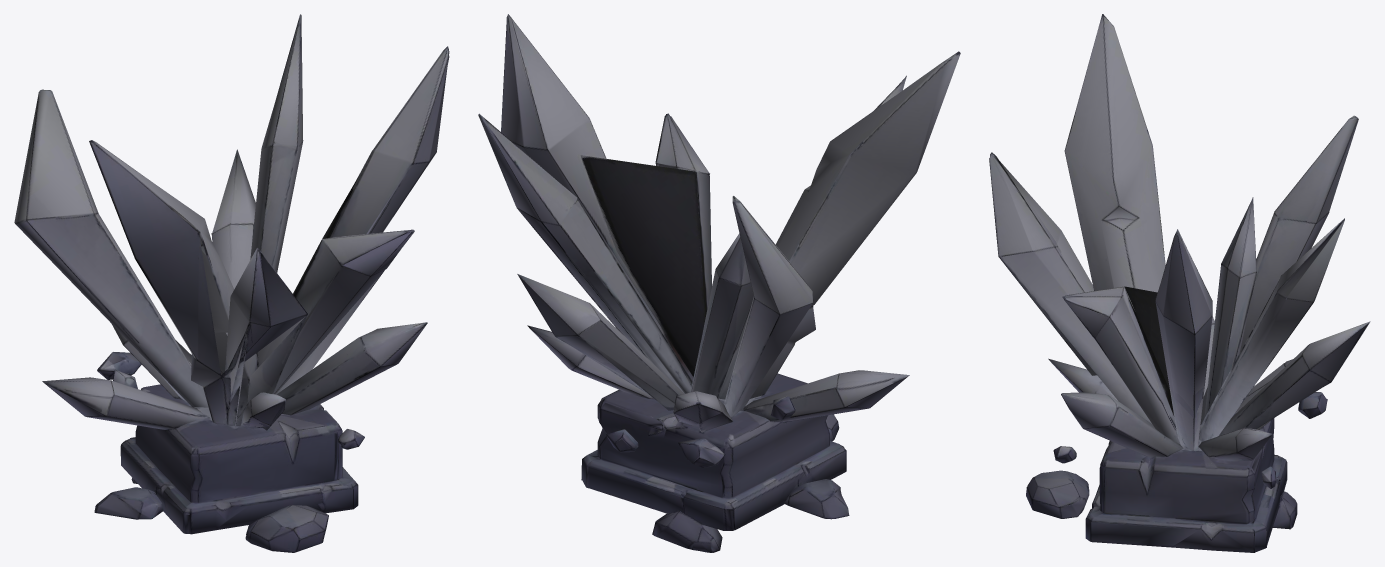
File: metal_restrain_t2.glb
3 renders of one model, left to right at view 1: azimuth 30°, elevation 25°; view 2: azimuth 150°, elevation 25°; view 3: azimuth 270°, elevation 25°, orthographic. The views are drawn at different scales.
Parts seen in each view (by area): view 1: tripo_node_daaa0e53-8ac0-4d07-8c70-97d023ced65e; view 2: tripo_node_daaa0e53-8ac0-4d07-8c70-97d023ced65e; view 3: tripo_node_daaa0e53-8ac0-4d07-8c70-97d023ced65e.
Boxes of the visible parts, x1=… form: tripo_node_daaa0e53-8ac0-4d07-8c70-97d023ced65e: x1=14, y1=14, x2=449, y2=552; tripo_node_daaa0e53-8ac0-4d07-8c70-97d023ced65e: x1=478, y1=14, x2=960, y2=552; tripo_node_daaa0e53-8ac0-4d07-8c70-97d023ced65e: x1=989, y1=14, x2=1370, y2=552.
Bounding box in the file's own units: 0.9355 × 0.998 × 0.8105.
Materials: 1 (1 with a texture image).
